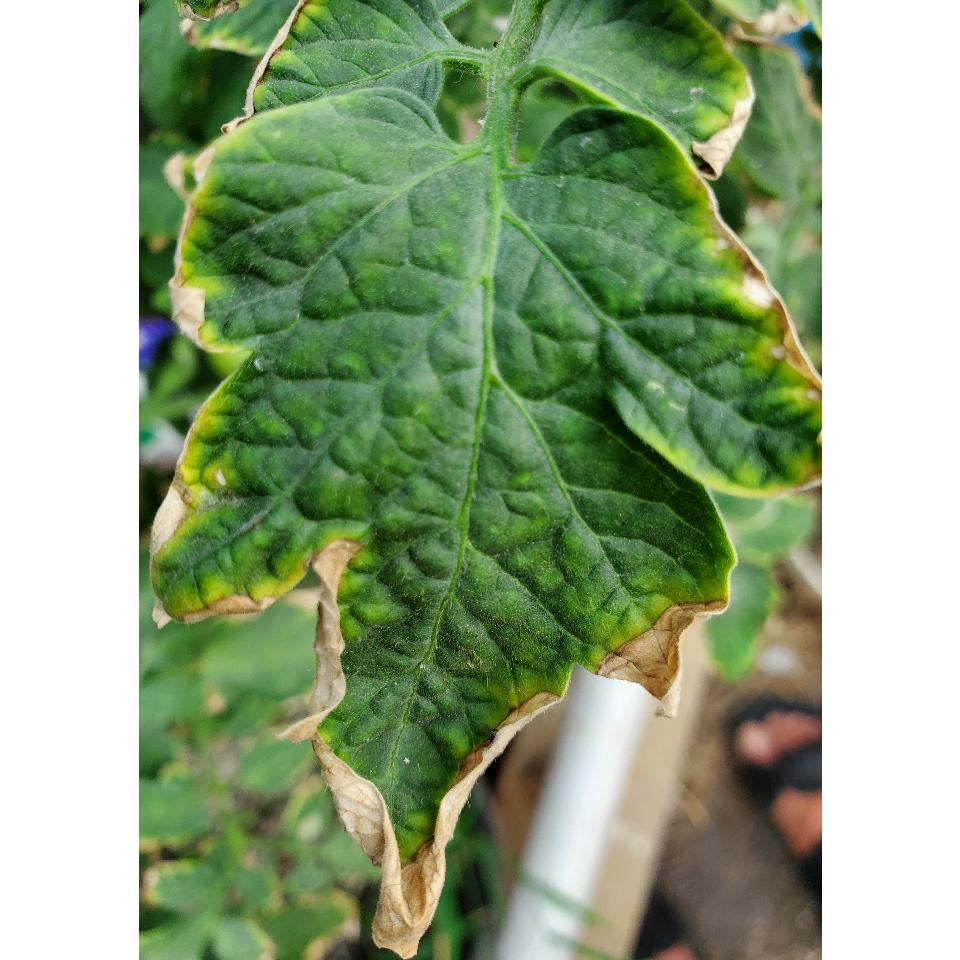tomato_bacterial_blight: (202, 93, 790, 960)
